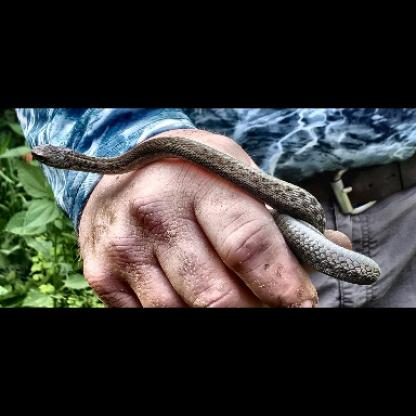Snake: (11, 126, 382, 286)
